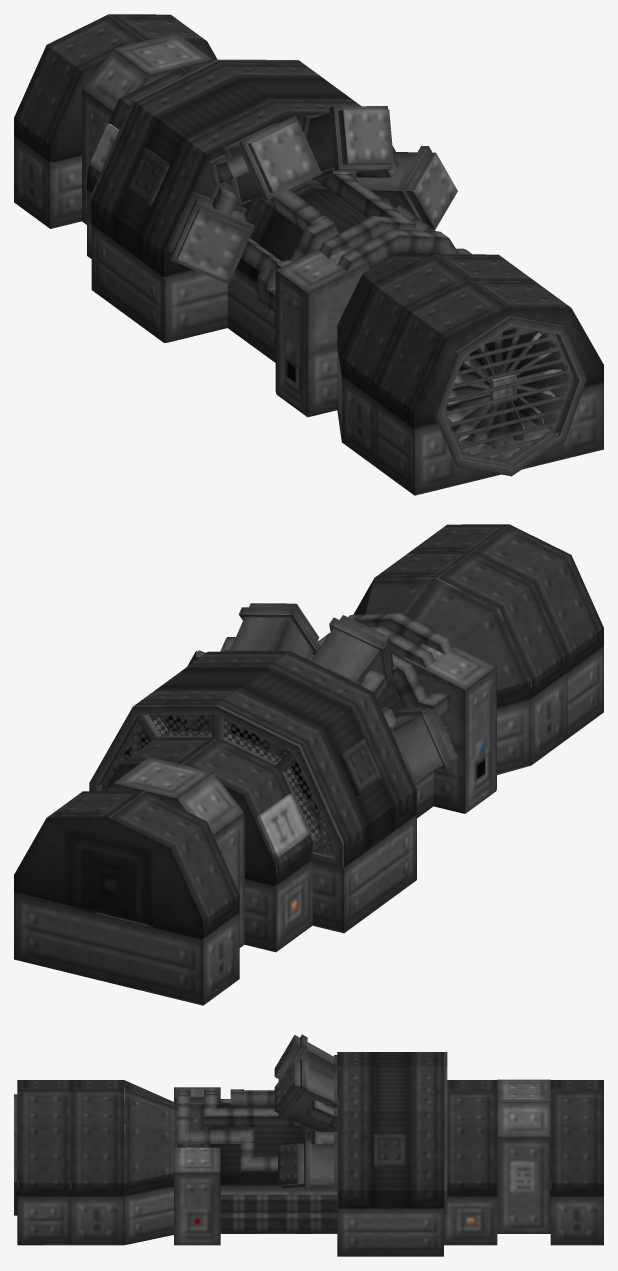
File: gas_turbine.obj
The picture shows the model from 3 angles, top to bottom: view 1: azimuth 30°, elevation 25°; view 2: azimuth 150°, elevation 25°; view 3: azimuth 270°, elevation 25°; orthographic projection. The views are drawn at different scales.
Parts seen in each view (by area): view 1: cube, cube_fan; view 2: cube; view 3: cube.
Part boxes in pixels (left/top/right/bottom): cube: left=14, top=14, right=603, bottom=495; cube_fan: left=446, top=332, right=561, bottom=454; cube: left=14, top=524, right=603, bottom=1005; cube: left=14, top=1034, right=603, bottom=1256.
Size of the model in its own units: 4.49 by 3.35 by 11.06.
